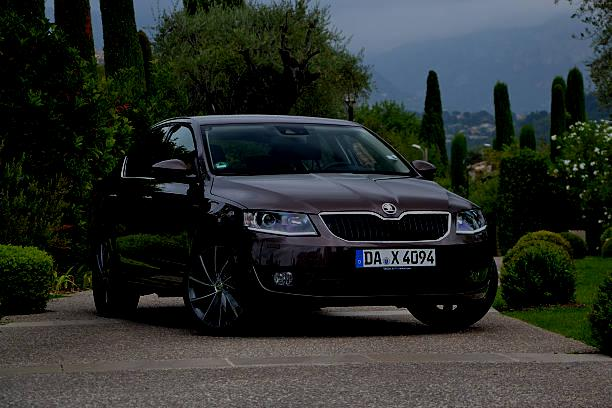skoda: (375, 197, 404, 220)
